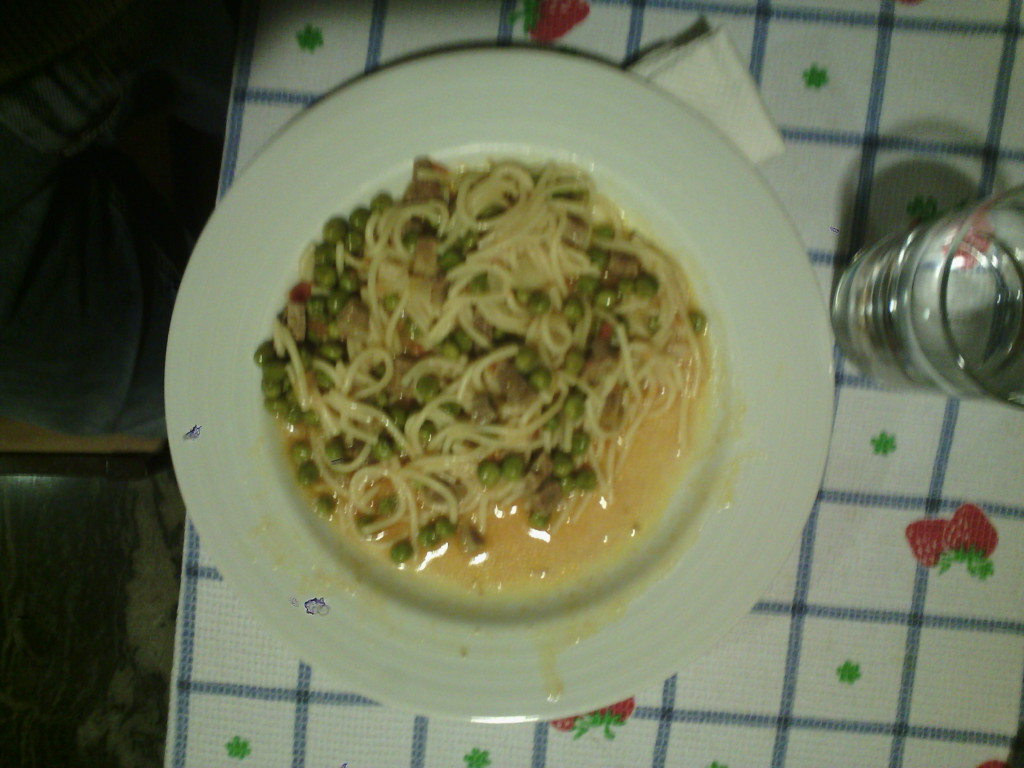61-80: (161, 49, 833, 726)
